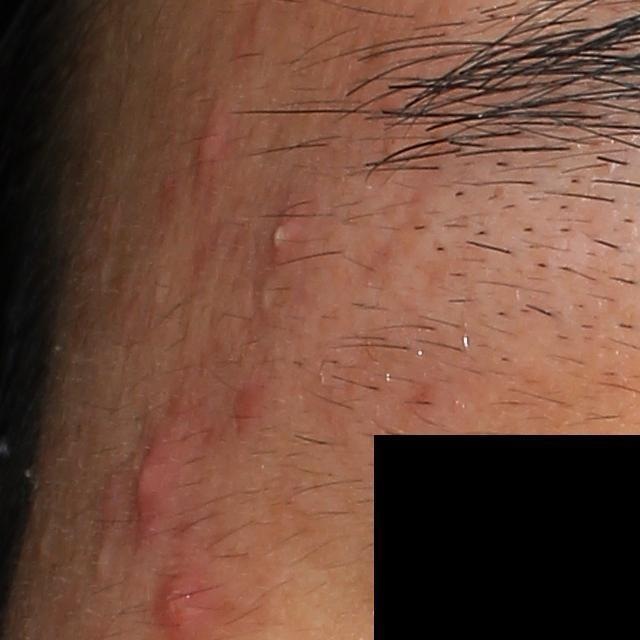papule: (123, 435, 169, 535), (189, 103, 231, 186), (229, 384, 263, 430)
pustule: (263, 201, 310, 269)
